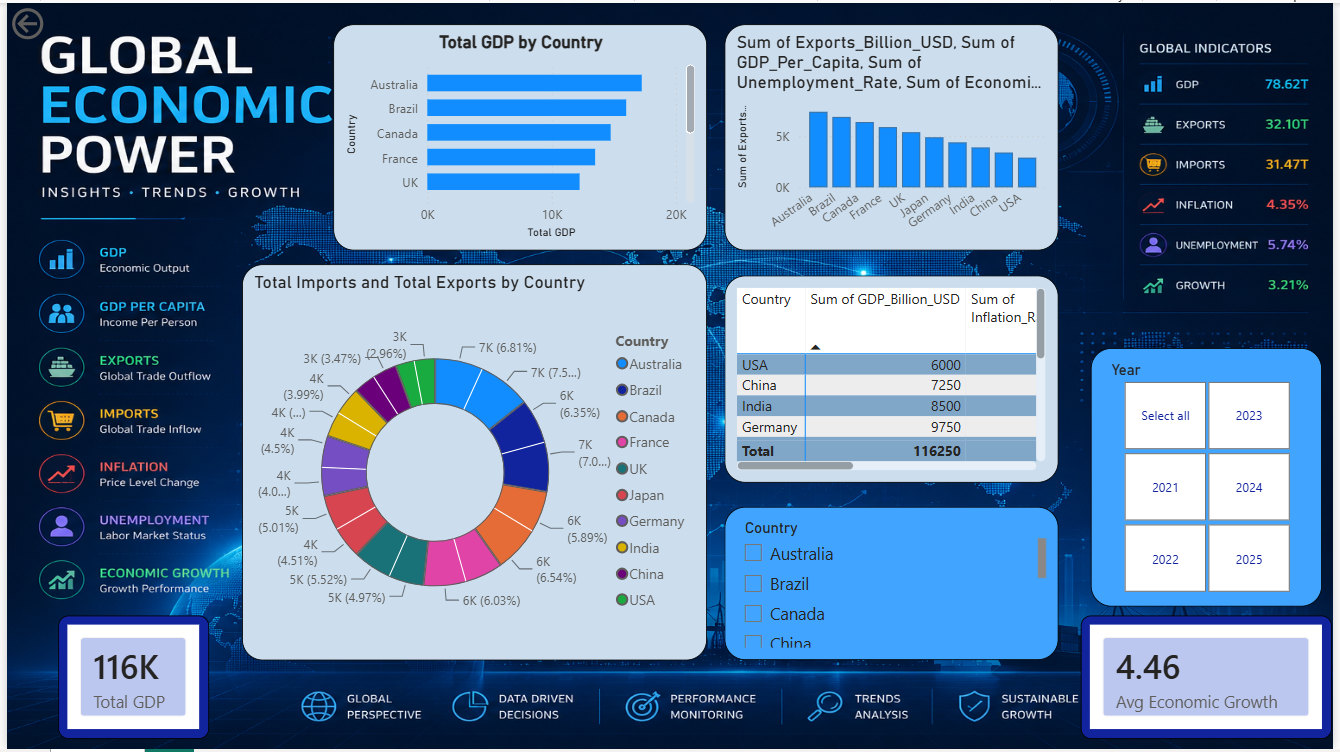

The page's visual inventory and layout, read from the dashboard file:
{"tool":"powerbi","page":{"name":"Page 1","canvas":[1280,720],"ordinal":0},"visuals":[{"type":"cardVisual","fields":{"Data":["Economic_Power.Total GDP"]},"box":[49.5,591.2,146,119.4],"z":0},{"type":"cardVisual","fields":{"Data":["Economic_Power.Avg Economic Growth"]},"box":[1036.3,591.2,242.5,119.4],"z":1000},{"type":"clusteredBarChart","fields":{"Category":["Economic_Power.Country"],"Y":["Economic_Power.Total GDP"]},"box":[314.9,20.5,360.7,218.4],"z":2000},{"type":"clusteredColumnChart","fields":{"Category":["Economic_Power.Country"],"Y":["Sum(Economic_Power.Exports_Billion_USD)"]},"box":[692.5,20.5,322.1,218.4],"z":3000},{"type":"donutChart","fields":{"Category":["Economic_Power.Country"],"Y":["Economic_Power.Total Imports","Economic_Power.Total Exports"]},"box":[226.8,252.1,448.8,382.4],"z":4000},{"type":"pivotTable","fields":{"Rows":["Economic_Power.Country"],"Values":["Sum(Economic_Power.GDP_Billion_USD)","Sum(Economic_Power.Inflation_Rate)","Sum(Economic_Power.Unemployment_Rate)","Sum(Economic_Power.Economic_Growth_Percent)"]},"box":[692.5,262.4,322.1,200.3],"z":5000},{"type":"actionButton","box":[0,0,100,40],"z":6000},{"type":"slicer","fields":{"Values":["Economic_Power.Country"]},"box":[692.5,486.2,322.1,148.4],"z":7000},{"type":"slicer","fields":{"Values":["Economic_Power.Year"]},"box":[1046,333,223.2,249.7],"z":8000}]}

Visuals, with their boxes in screenshot pixels (x1, y1, x2, y2), scaled from the page's 1280x720 canvas onto the 1340x752 screenshot:
cardVisual - Economic_Power.Total GDP: region(52, 617, 205, 742)
cardVisual - Economic_Power.Avg Economic Growth: region(1085, 617, 1339, 742)
clusteredBarChart - Economic_Power.Country x Economic_Power.Total GDP: region(330, 21, 707, 250)
clusteredColumnChart - Economic_Power.Country x Sum(Economic_Power.Exports_Billion_USD): region(725, 21, 1062, 250)
donutChart - Economic_Power.Country x Economic_Power.Total Imports: region(237, 263, 707, 663)
pivotTable - Economic_Power.Country x Sum(Economic_Power.GDP_Billion_USD): region(725, 274, 1062, 483)
actionButton: region(0, 0, 105, 42)
slicer - Economic_Power.Country: region(725, 508, 1062, 663)
slicer - Economic_Power.Year: region(1095, 348, 1329, 609)
